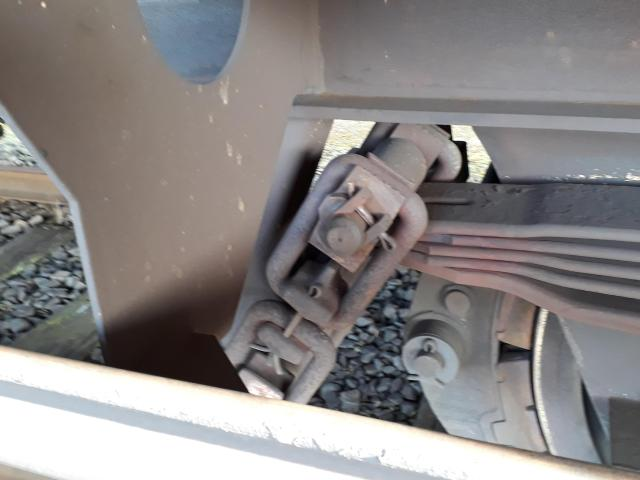blattfederww: (428, 176, 640, 309)
